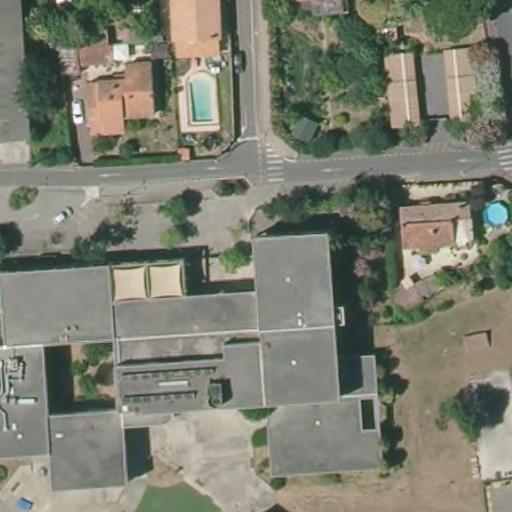pool: (183, 73, 218, 124), (483, 197, 507, 229)
